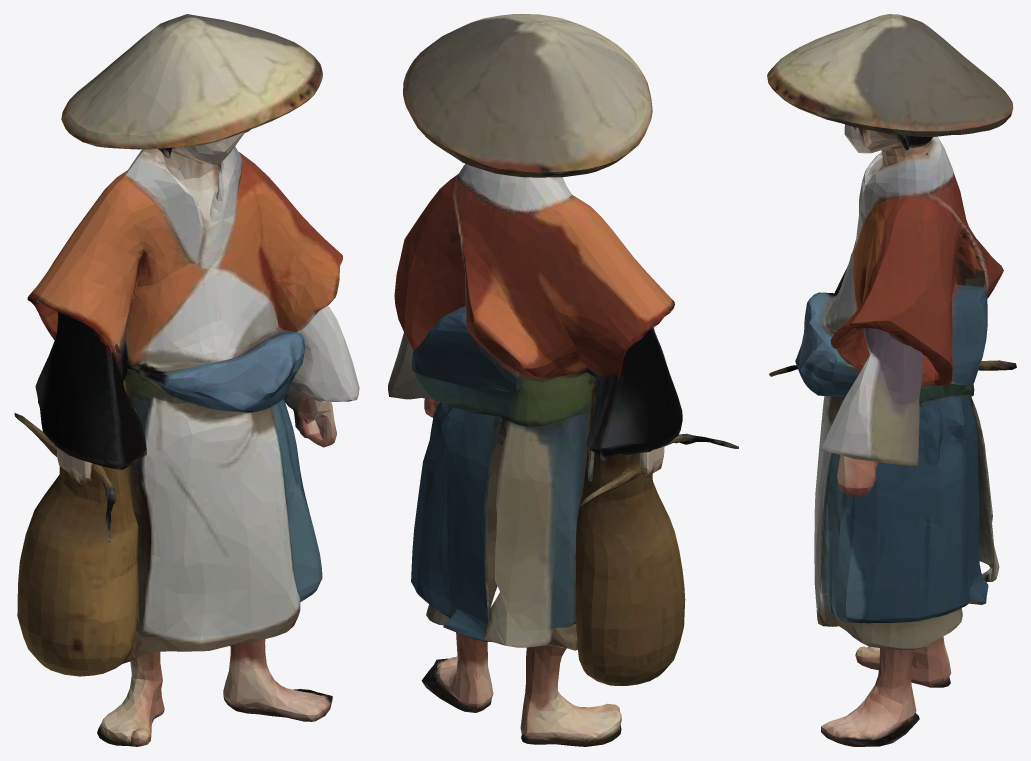
The model's file is anime_ancient_commoner.glb.
3 renders of one model, left to right at view 1: azimuth 30°, elevation 25°; view 2: azimuth 150°, elevation 25°; view 3: azimuth 270°, elevation 25°, orthographic. The views are drawn at different scales.
Visible parts, largest first — view 1: geometry_0; view 2: geometry_0; view 3: geometry_0.
Part boxes in pixels (x1,y1,x2,y2): geometry_0: (14, 14, 359, 746); geometry_0: (388, 14, 738, 746); geometry_0: (767, 14, 1016, 746).
Bounding box in the file's own units: 0.4492 × 0.998 × 0.3336.
Materials: 1 (1 with a texture image).
